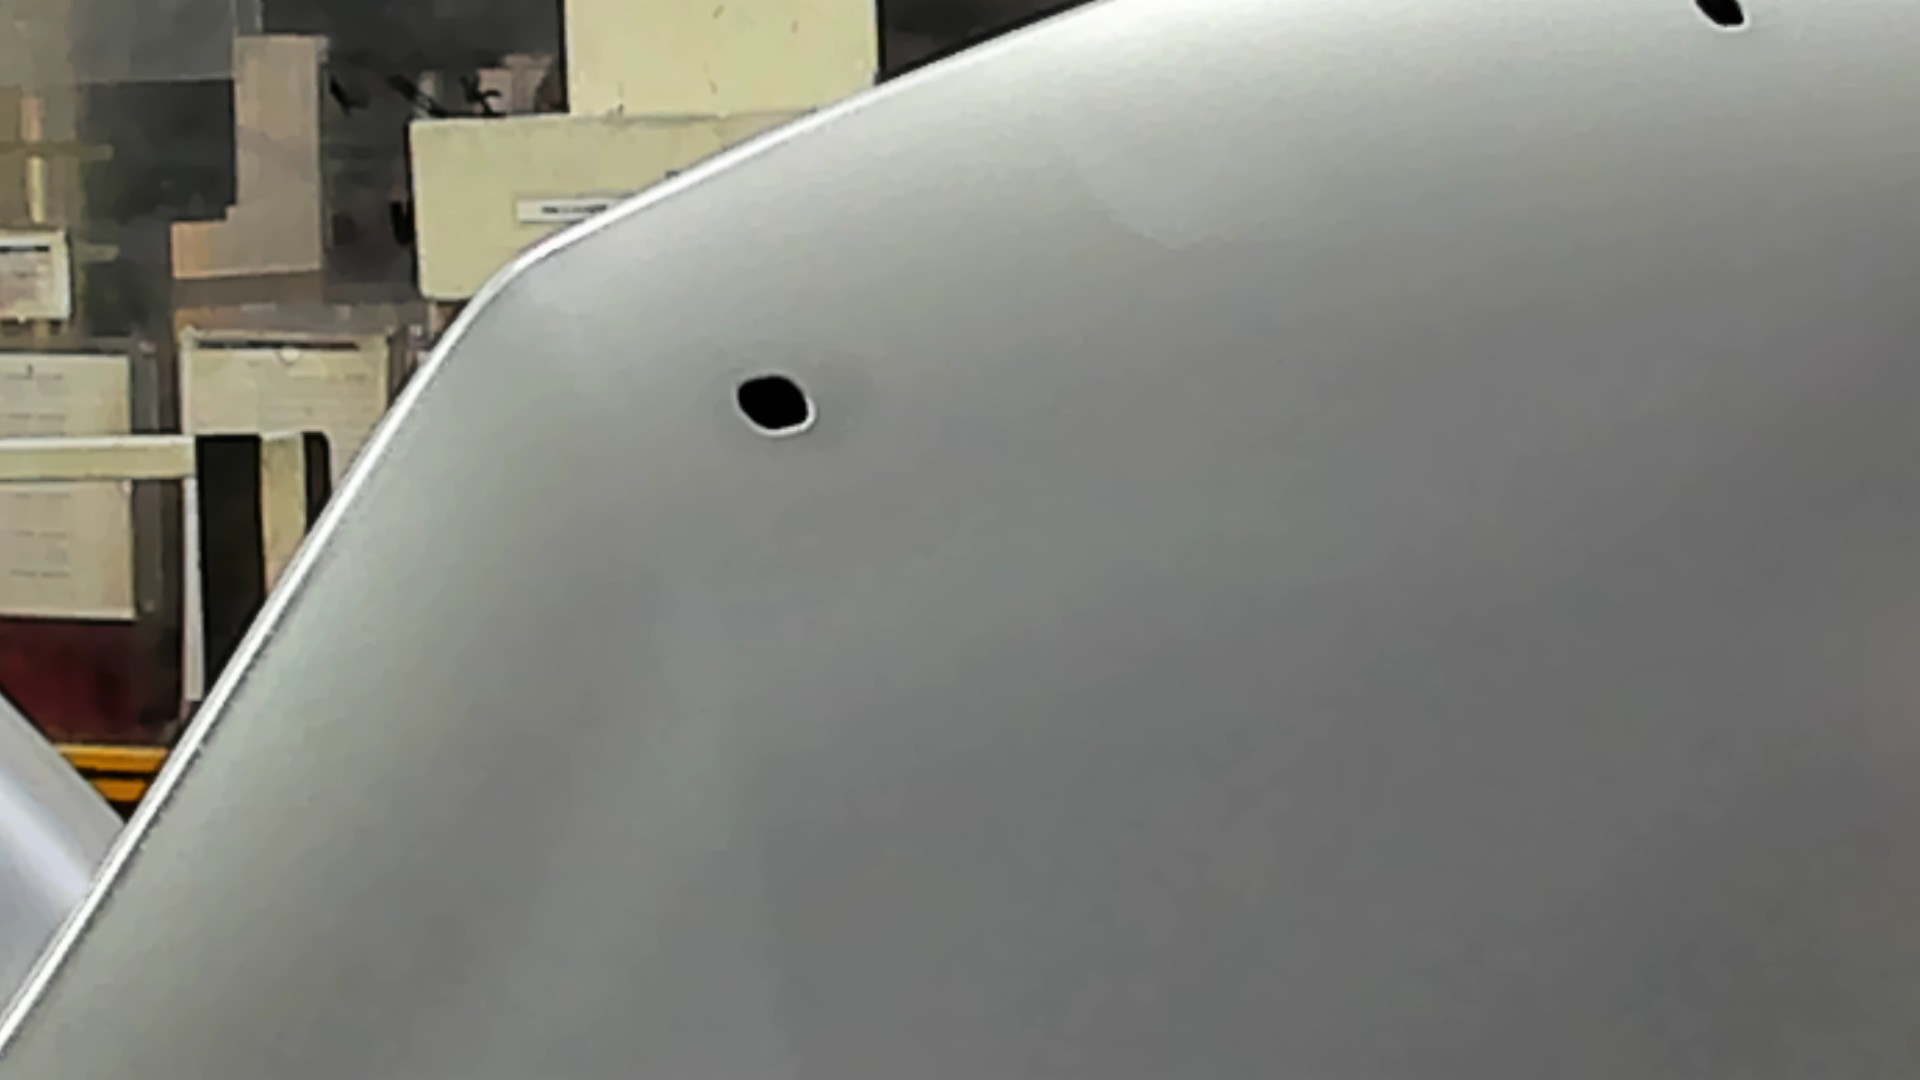amorfo: (725, 369, 824, 440), (1693, 1, 1755, 38)
